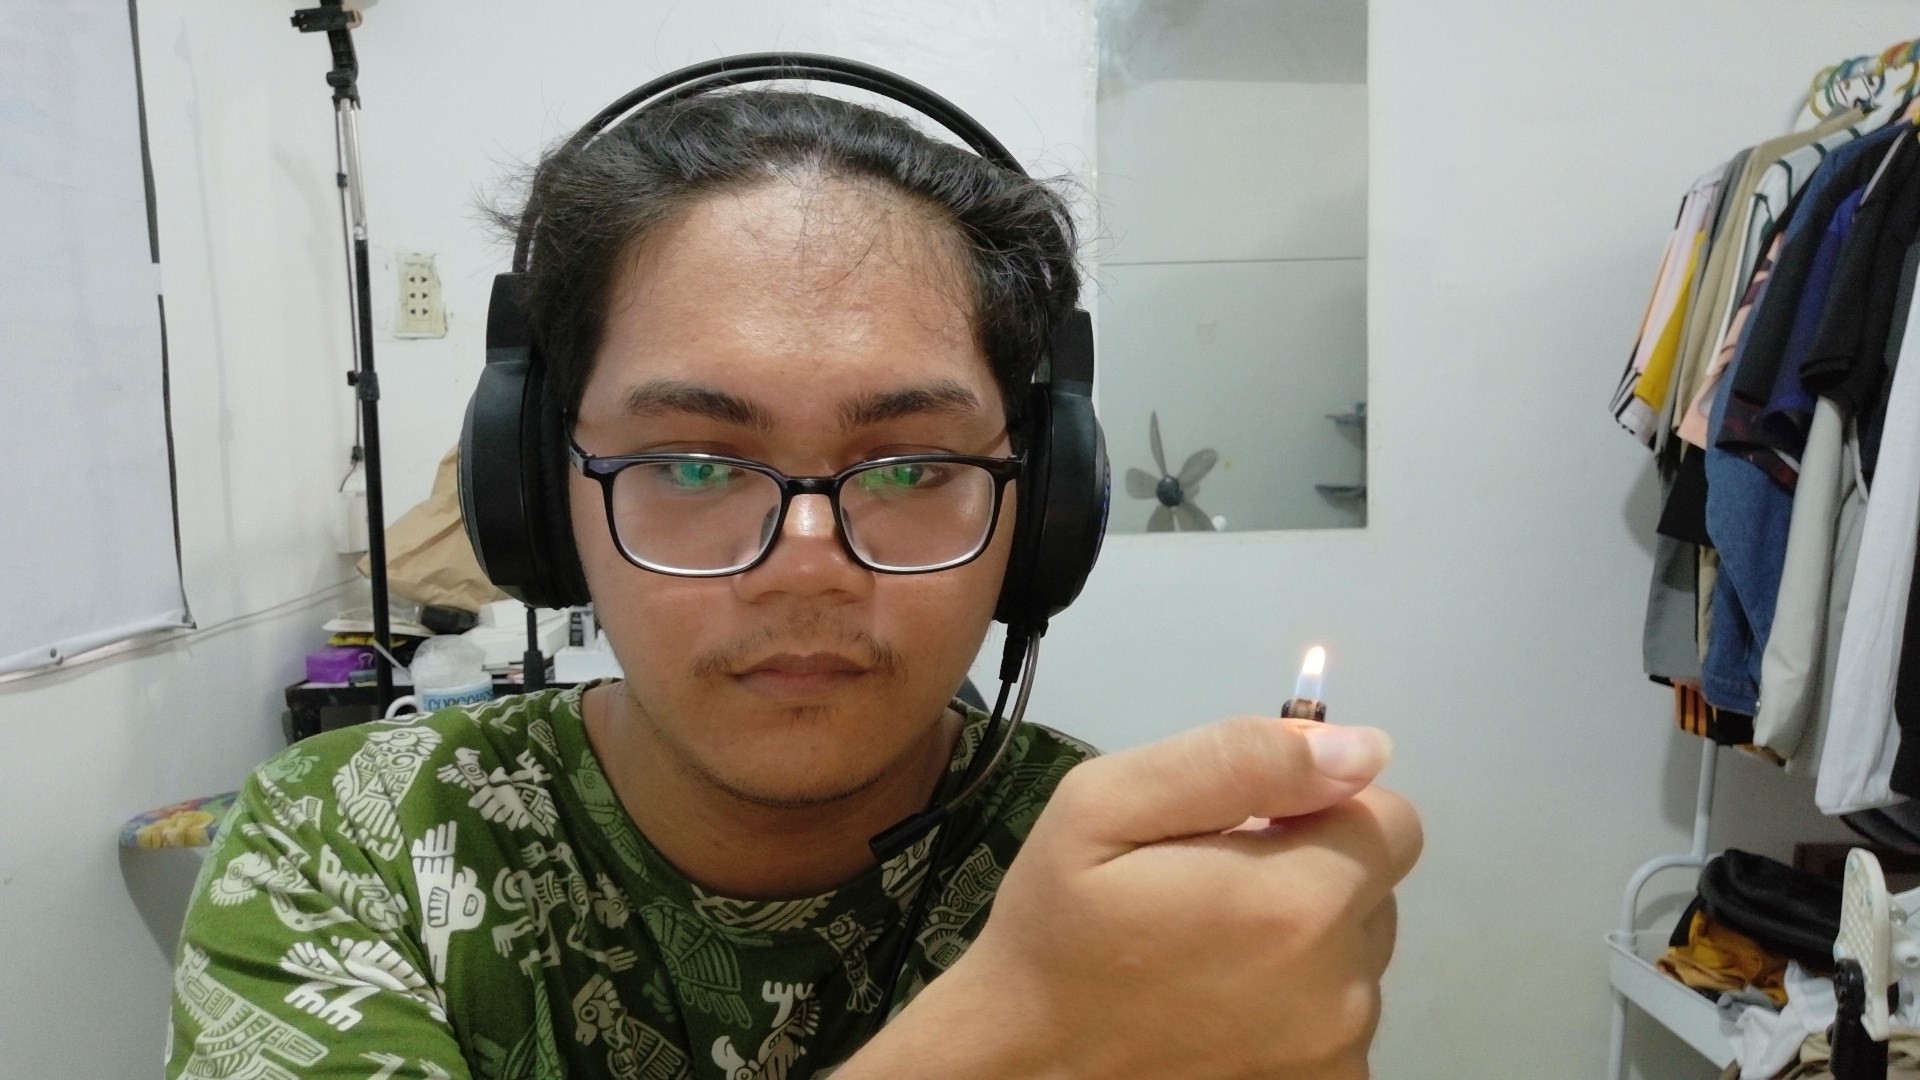fire: (1260, 602, 1385, 752)
